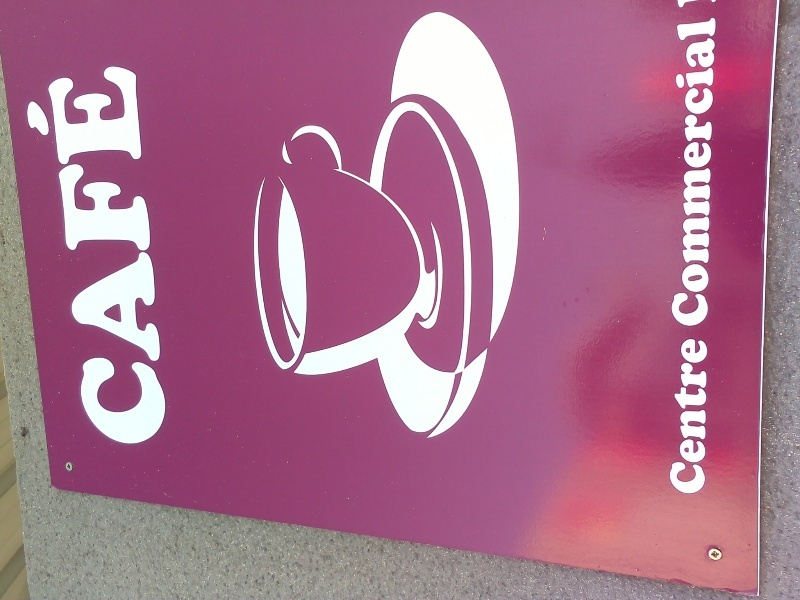text: (17, 62, 32, 449), (33, 62, 48, 449), (49, 62, 64, 449), (65, 62, 80, 449), (81, 62, 96, 449), (97, 62, 112, 449), (113, 62, 128, 449), (129, 62, 144, 449), (145, 62, 160, 449), (161, 62, 176, 449), (673, 14, 688, 329), (689, 14, 704, 329), (705, 14, 719, 329), (689, 337, 704, 500), (675, 337, 688, 500), (705, 337, 709, 500)
